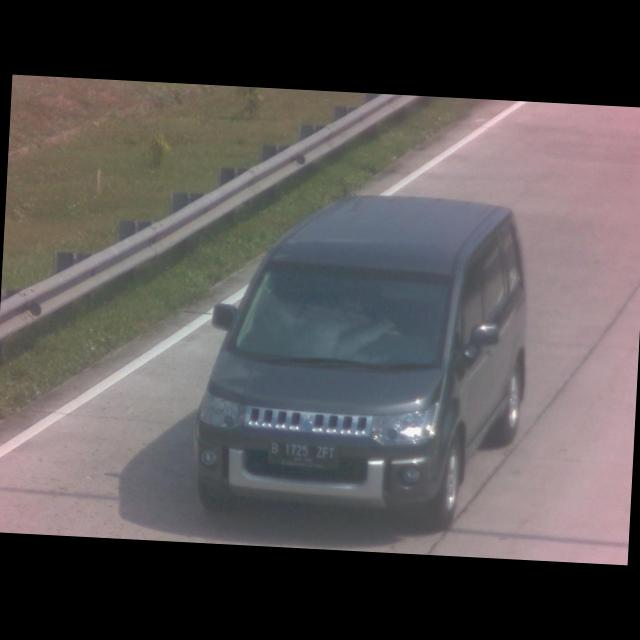plate: (262, 438, 342, 472)
